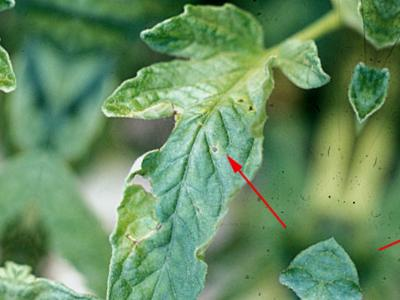Tomato leaf bacterial spot: (51, 0, 301, 300)
